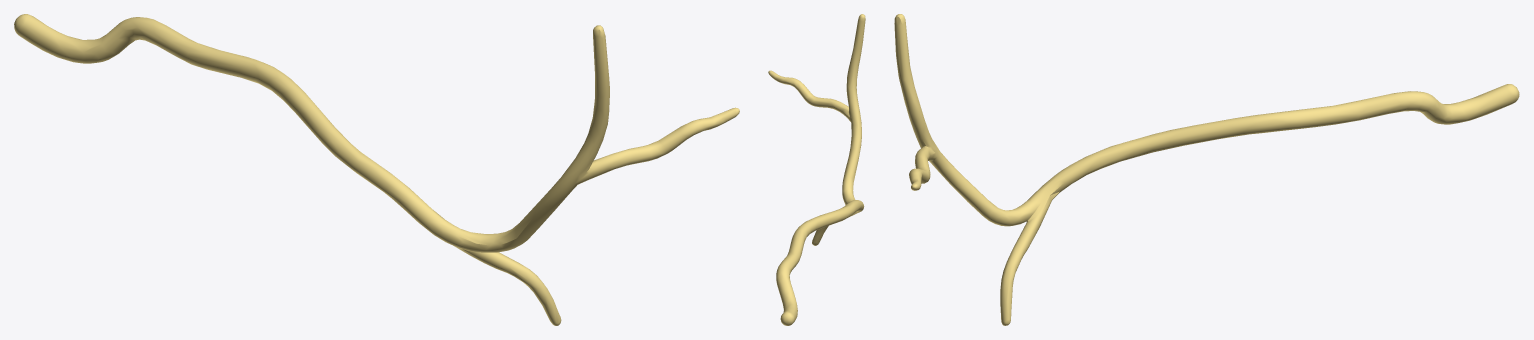
File: fma52643_fj4023.glb
3 views of the same model, side by side, from view 1: azimuth 30°, elevation 25°; view 2: azimuth 150°, elevation 25°; view 3: azimuth 270°, elevation 25° (orthographic). The views are drawn at different scales.
Parts seen in each view (by area): view 1: FMA52643_FJ4023; view 2: FMA52643_FJ4023; view 3: FMA52643_FJ4023.
Boxes of the visible parts, x1=… form: FMA52643_FJ4023: x1=14, y1=14, x2=739, y2=325; FMA52643_FJ4023: x1=768, y1=14, x2=865, y2=325; FMA52643_FJ4023: x1=894, y1=14, x2=1519, y2=325.
Size of the model in its own units: 0.023 by 0.02 by 0.0373.
